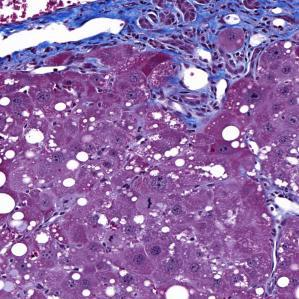fibrosis: (69, 3, 204, 63), (174, 8, 291, 71)
